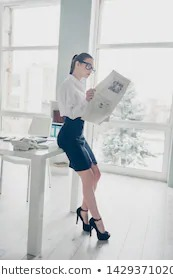F_shirt: (58, 76, 91, 119)
F_tailored skirt: (59, 115, 98, 169)
